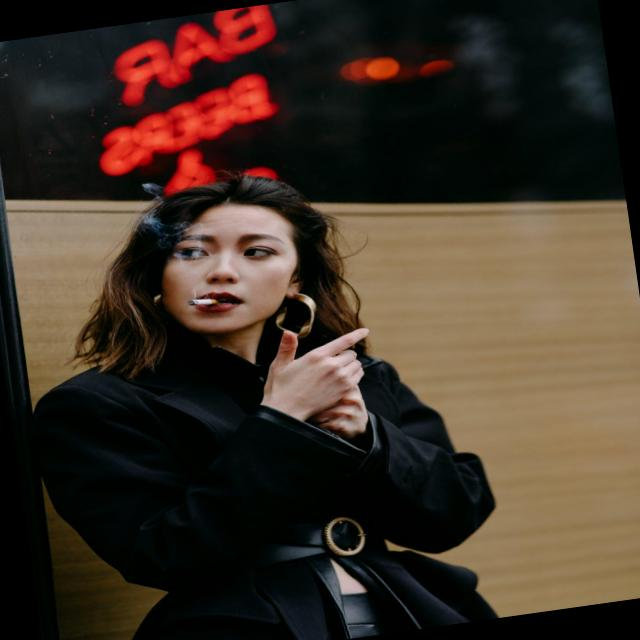cigarette: (177, 278, 252, 324)
